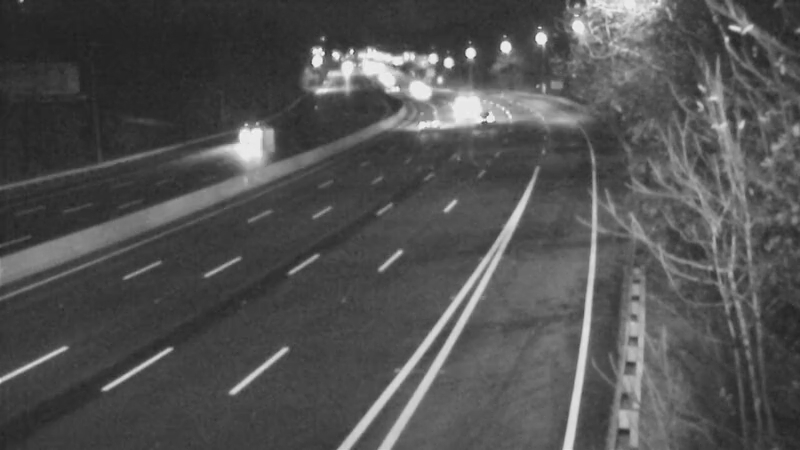vehicle: (392, 60, 442, 110), (367, 64, 417, 114), (401, 70, 451, 120), (442, 77, 492, 127), (437, 88, 487, 138), (463, 93, 513, 143), (399, 96, 449, 146), (226, 112, 276, 162)
